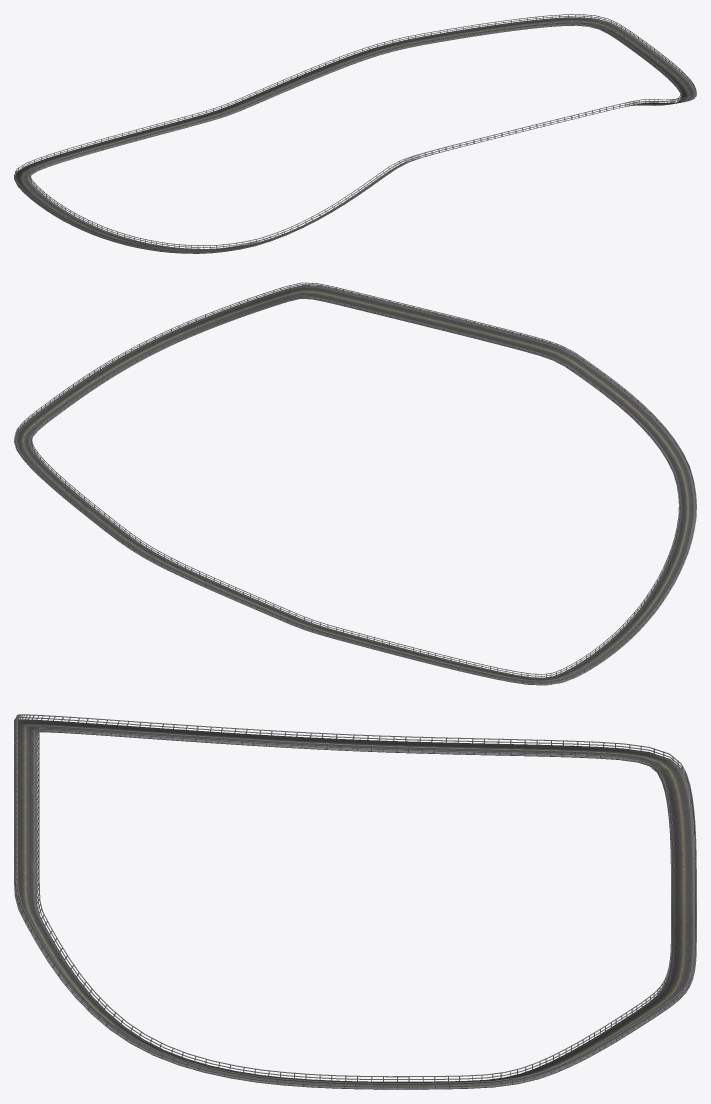
File: hyudqicqr8autosave.fbx
3 views of the same model, one above another, from view 1: azimuth 30°, elevation 25°; view 2: azimuth 150°, elevation 25°; view 3: azimuth 270°, elevation 25° (orthographic). The views are drawn at different scales.
Visible parts, largest first — view 1: road, layers; view 2: road, layers; view 3: road, layers.
Boxes of the visible parts, <box> form: road: <box>14,17,696,253</box>; layers: <box>14,14,696,253</box>; road: <box>14,285,696,685</box>; layers: <box>14,282,696,685</box>; road: <box>14,719,696,1089</box>; layers: <box>14,714,696,1088</box>.
Bounding box in the file's own units: 65558 × 13361 × 43033.
